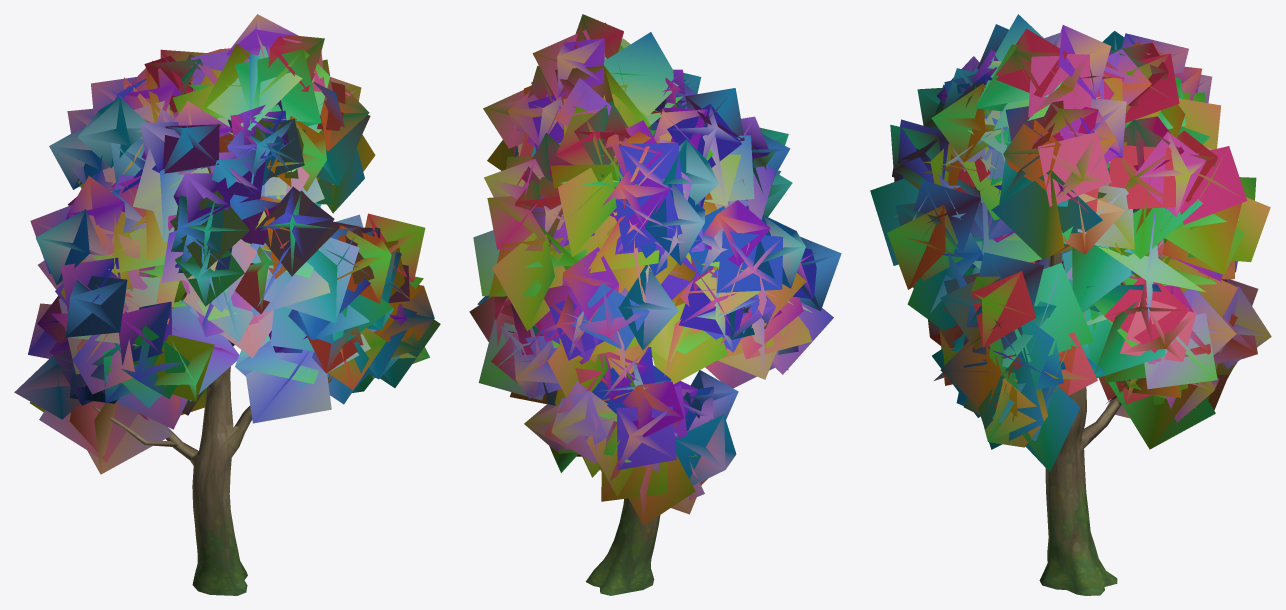
File: Homeworld_Exterior_Common_Plant_Tree_01_Lod0.fbx
The picture shows the model from 3 angles, left to right: view 1: azimuth 30°, elevation 25°; view 2: azimuth 150°, elevation 25°; view 3: azimuth 270°, elevation 25°; orthographic projection. The views are drawn at different scales.
Visible parts, largest first — view 1: Stages_CyTree01_Leaf_Lod0, Stages_CyTree01_Bark_Lod0; view 2: Stages_CyTree01_Leaf_Lod0, Stages_CyTree01_Bark_Lod0; view 3: Stages_CyTree01_Leaf_Lod0, Stages_CyTree01_Bark_Lod0.
Part boxes in pixels (<box>): Stages_CyTree01_Leaf_Lod0: <box>14,14,440,474</box>; Stages_CyTree01_Bark_Lod0: <box>92,340,332,595</box>; Stages_CyTree01_Leaf_Lod0: <box>469,14,841,525</box>; Stages_CyTree01_Bark_Lod0: <box>586,498,660,595</box>; Stages_CyTree01_Leaf_Lod0: <box>870,14,1271,471</box>; Stages_CyTree01_Bark_Lod0: <box>1039,248,1165,595</box>.
Size of the model in its own units: 9 by 13.17 by 8.4.
